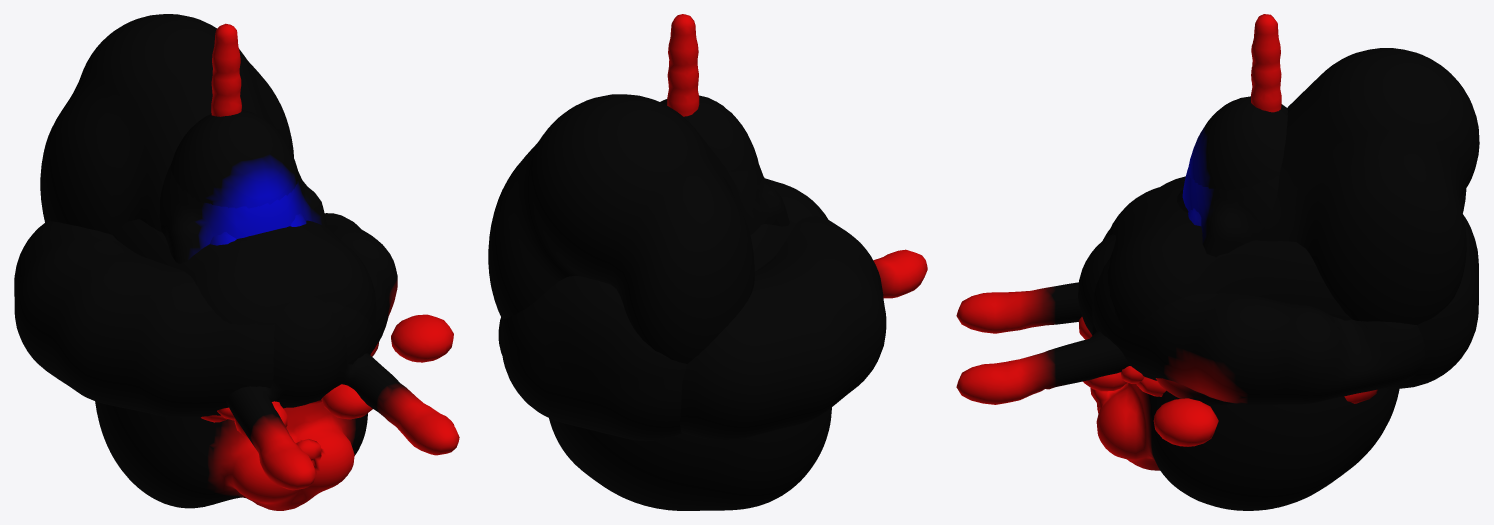
File: cat-siamese.glb
3 renders of one model, left to right at view 1: azimuth 30°, elevation 25°; view 2: azimuth 150°, elevation 25°; view 3: azimuth 270°, elevation 25°, orthographic. The views are drawn at different scales.
Parts seen in each view (by area): view 1: body_crouch, body_curl, head, body_loaf, body_sit, body_float, tail; view 2: body_crouch, body_curl, body_loaf, head, body_sit, tail, body_float; view 3: body_crouch, body_curl, head, body_loaf, body_sit, body_float, tail.
Boxes of the visible parts, x1=… form: body_crouch: x1=40, y1=14, x2=459, y2=490; body_curl: x1=14, y1=213, x2=453, y2=417; head: x1=95, y1=401, x2=367, y2=510; body_loaf: x1=112, y1=219, x2=376, y2=438; body_sit: x1=170, y1=109, x2=306, y2=422; body_float: x1=159, y1=166, x2=378, y2=420; tail: x1=211, y1=23, x2=241, y2=116; body_crouch: x1=488, y1=94, x2=927, y2=363; body_curl: x1=498, y1=216, x2=886, y2=440; body_loaf: x1=501, y1=178, x2=827, y2=441; head: x1=549, y1=407, x2=831, y2=510; body_sit: x1=660, y1=95, x2=759, y2=172; tail: x1=667, y1=14, x2=699, y2=116; body_float: x1=728, y1=165, x2=789, y2=226; body_crouch: x1=956, y1=48, x2=1479, y2=404; body_curl: x1=1092, y1=176, x2=1424, y2=446; head: x1=1090, y1=383, x2=1399, y2=510; body_loaf: x1=1078, y1=182, x2=1478, y2=391; body_sit: x1=1136, y1=96, x2=1287, y2=396; body_float: x1=1120, y1=168, x2=1279, y2=405; tail: x1=1251, y1=14, x2=1281, y2=112.
Size of the model in its own units: 0.8552 by 1.03 by 1.04.
